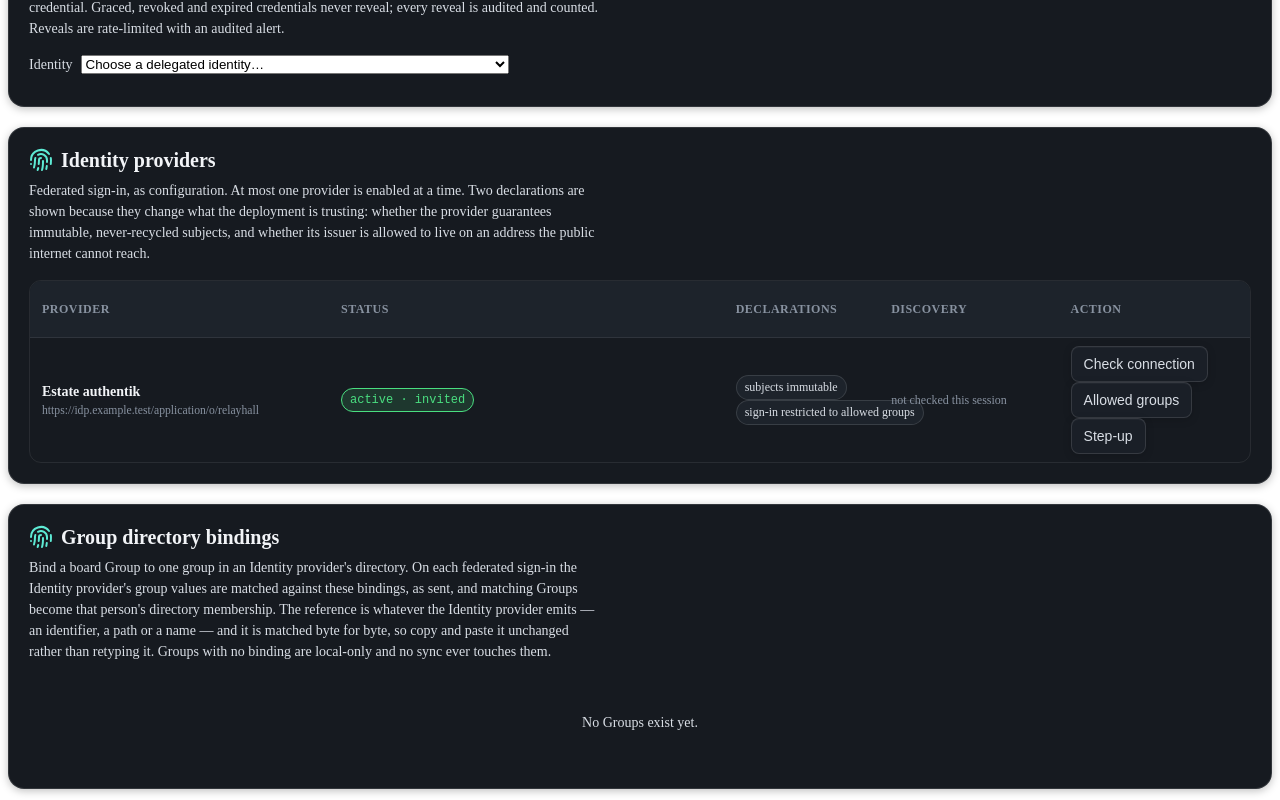
Test: SSO-R4 · the login-gate editor never renders UNKNOWN as an empty list › when the read FAILS it says the list is unknown and offers no controls
(page scrolled)
Click the button "Allowed groups": [1131, 400] box [1071,382,1192,418]
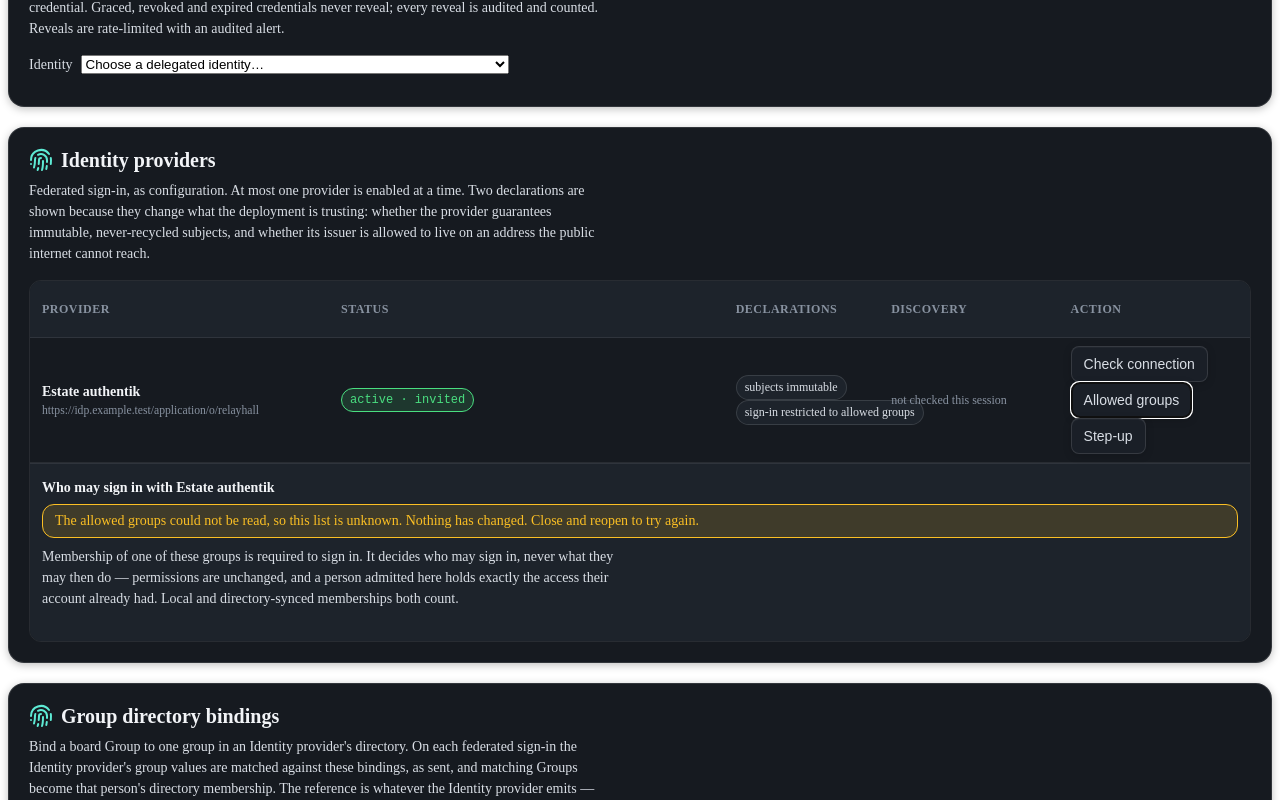
Expected: the text "could not be read, so this list is unknown" is shown, [55,513,699,528]
